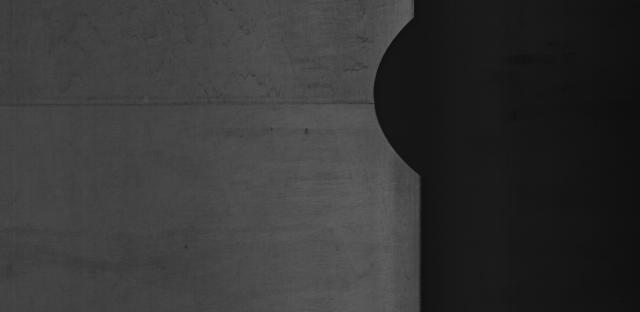crescent_gap: (361, 10, 446, 182)
welding_line: (0, 98, 385, 122)
